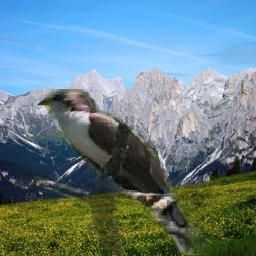Cuckoo: (34, 89, 208, 255)
